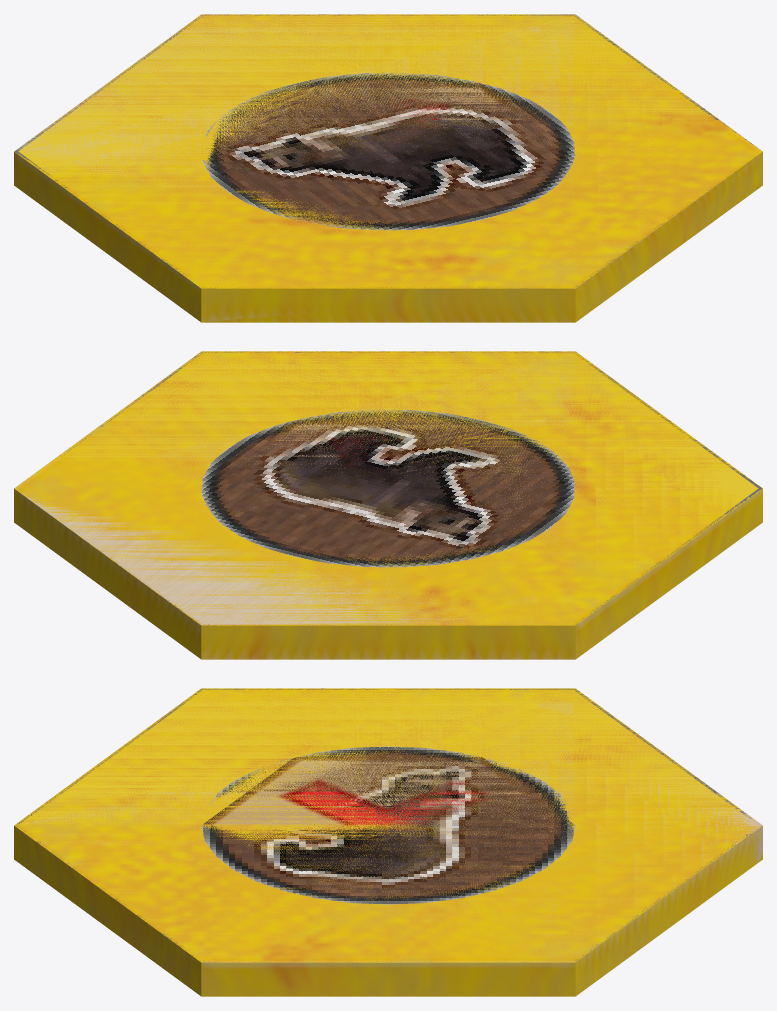
Rendered from cascadia6.glb.
3 views of the same model, one above another, from view 1: azimuth 30°, elevation 25°; view 2: azimuth 150°, elevation 25°; view 3: azimuth 270°, elevation 25° (orthographic).
Visible parts, largest first — view 1: desert, potential, bear-token, blank, cancel-tile-action; view 2: desert, bear-token, potential, blank, cancel-tile-action; view 3: desert, potential, bear-token, cancel-tile-action, blank.
Part boxes in pixels (x1,y1,x2,y2): desert: [14, 14, 762, 322]; potential: [14, 14, 757, 288]; bear-token: [203, 72, 575, 230]; blank: [17, 14, 573, 270]; cancel-tile-action: [208, 83, 531, 219]; desert: [14, 351, 762, 659]; bear-token: [201, 409, 575, 567]; potential: [22, 351, 762, 625]; blank: [17, 354, 573, 625]; cancel-tile-action: [245, 420, 511, 550]; desert: [14, 688, 762, 996]; potential: [15, 688, 757, 962]; bear-token: [201, 746, 575, 904]; cancel-tile-action: [203, 757, 574, 893]; blank: [22, 702, 762, 966].
Size of the model in its own units: 1.73 by 0.1 by 2.
32 materials, 32 textured.
